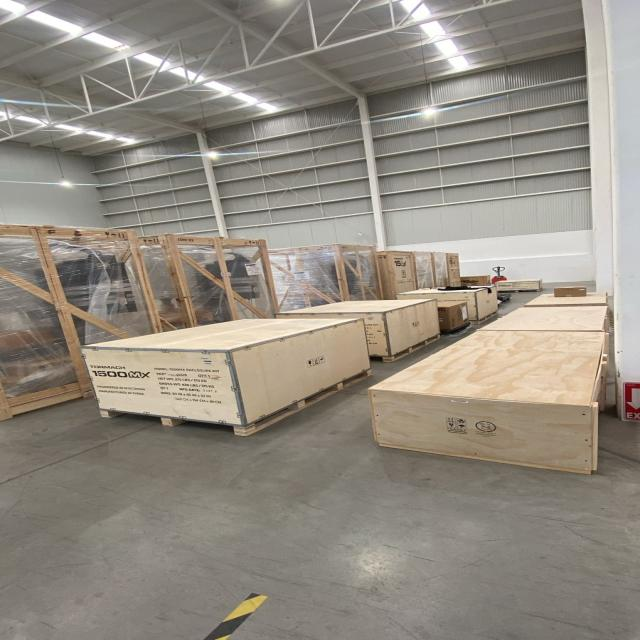1500b: (0, 225, 161, 419), (138, 234, 278, 328)
encl1500: (81, 317, 370, 435), (277, 298, 439, 362)
flood: (368, 326, 608, 474), (479, 306, 607, 333)
